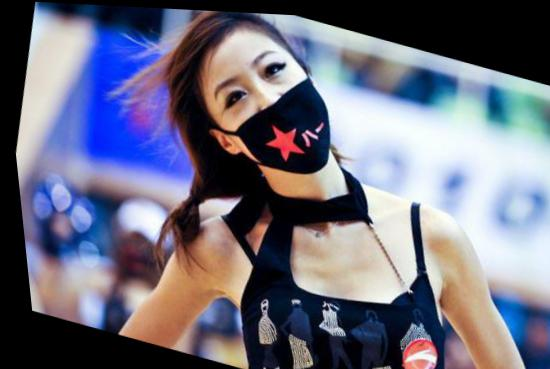WRONG: (193, 29, 349, 179)
